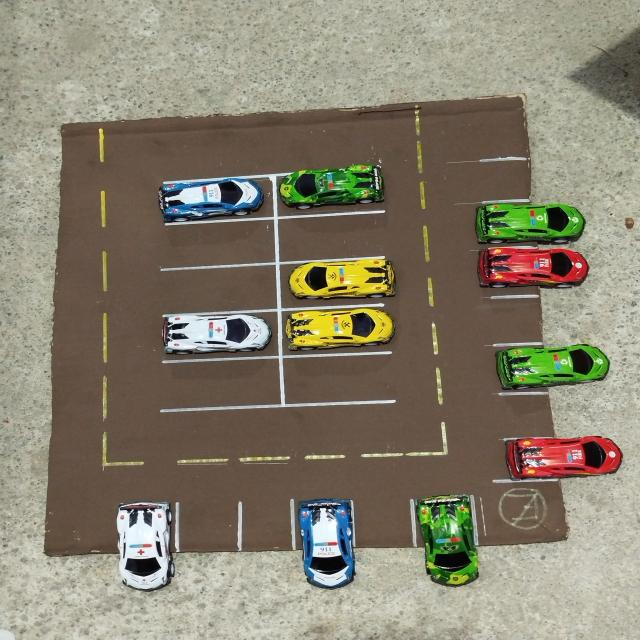libre: (150, 358, 282, 406), (280, 354, 402, 402), (475, 294, 594, 343), (175, 500, 238, 592), (152, 267, 279, 312), (355, 496, 414, 590), (237, 500, 294, 593), (152, 223, 279, 264), (490, 392, 607, 435), (461, 160, 578, 202), (274, 217, 389, 257), (43, 503, 118, 564)
no_estacionarse: (475, 484, 579, 546)
ocupado: (411, 493, 482, 590), (478, 343, 611, 391), (291, 497, 358, 592), (117, 501, 179, 594), (152, 313, 280, 357), (279, 259, 399, 305), (473, 246, 590, 293), (280, 306, 399, 352), (495, 436, 621, 479), (460, 202, 586, 244), (275, 172, 390, 212), (152, 181, 272, 218)
